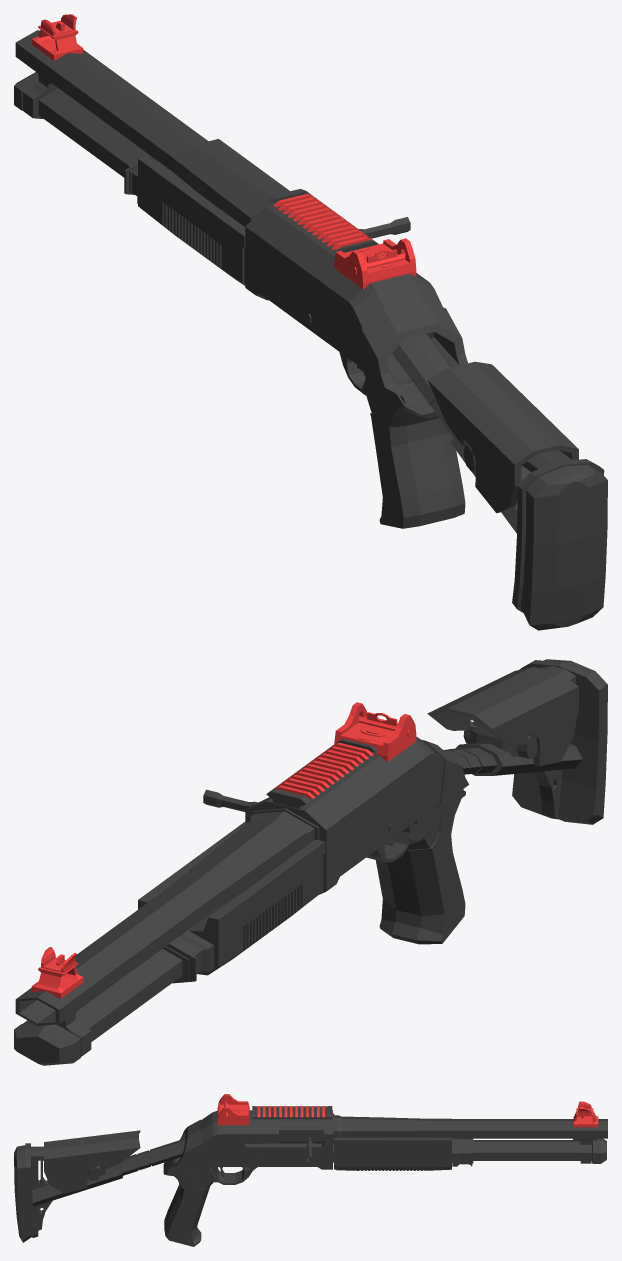
File: shotgun_2.glb
3 renders of one model, top to bottom at view 1: azimuth 30°, elevation 25°; view 2: azimuth 150°, elevation 25°; view 3: azimuth 270°, elevation 25°, orthographic. The views are drawn at different scales.
Visible parts, largest first — view 1: p9_paint, p53_paint, p0_paint, p45_paint, p42_paint, p8_paint, p1_paint, p33_del, p44_paint, p2_del; view 2: p0_paint, p9_paint, p42_paint, p45_paint, p8_paint, p1_paint, p53_paint, p33_del, p46_paint, p2_del, p51_paint, p10_paint (+4 smaller); view 3: p9_paint, p0_paint, p8_paint, p45_paint, p1_paint, p42_paint, p53_paint, p44_paint, p46_paint, p33_del, p10_paint, p12_paint (+4 smaller).
Part boxes in pixels (box(x1,y1,x2,y2)): p9_paint: box(245, 205, 467, 396); p53_paint: box(512, 459, 607, 630); p0_paint: box(15, 30, 285, 226); p45_paint: box(427, 361, 578, 513); p42_paint: box(361, 375, 465, 528); p8_paint: box(138, 139, 289, 285); p1_paint: box(14, 72, 169, 203); p33_del: box(334, 238, 416, 289); p44_paint: box(392, 334, 454, 437); p2_del: box(31, 20, 83, 60); p0_paint: box(15, 808, 319, 1025); p9_paint: box(245, 736, 468, 894); p42_paint: box(375, 789, 465, 944); p45_paint: box(427, 666, 578, 765); p8_paint: box(138, 822, 325, 975); p1_paint: box(14, 930, 213, 1065); p53_paint: box(512, 659, 607, 824); p33_del: box(334, 702, 416, 761); p46_paint: box(455, 743, 583, 775); p2_del: box(31, 957, 83, 998); p51_paint: box(533, 769, 562, 817); p10_paint: box(266, 739, 378, 808); p9_paint: box(170, 1110, 332, 1169); p0_paint: box(333, 1113, 607, 1143); p8_paint: box(334, 1118, 451, 1170); p45_paint: box(44, 1130, 140, 1193); p1_paint: box(321, 1138, 606, 1166); p42_paint: box(163, 1157, 217, 1246); p53_paint: box(14, 1143, 38, 1242); p44_paint: box(120, 1138, 185, 1175); p46_paint: box(32, 1163, 122, 1206); p33_del: box(217, 1094, 249, 1125); p10_paint: box(252, 1106, 332, 1119); p12_paint: box(277, 1126, 324, 1143).
Size of the model in its own units: 0.1556 by 0.2585 by 1.01.
